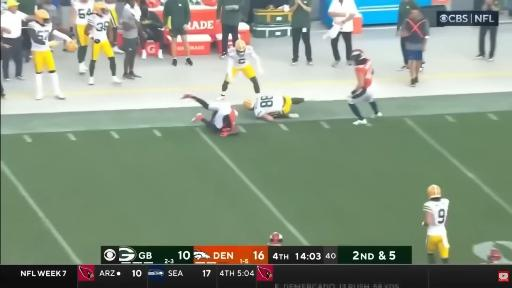Helmet: (34, 9, 50, 26), (93, 1, 110, 16), (488, 248, 501, 263), (235, 39, 246, 55), (428, 185, 441, 198), (269, 232, 282, 245), (351, 50, 364, 61), (243, 100, 254, 109)
Jersey: (423, 199, 449, 235), (28, 22, 52, 51), (254, 96, 285, 117), (227, 46, 254, 69), (88, 14, 111, 41), (72, 0, 94, 25), (355, 60, 373, 88), (223, 111, 235, 130)
Player: (28, 10, 76, 99), (86, 2, 121, 85), (217, 39, 263, 100), (348, 50, 381, 124), (182, 94, 238, 136), (423, 185, 449, 263), (70, 0, 94, 74), (244, 95, 304, 121), (104, 0, 123, 53), (487, 248, 502, 264), (268, 232, 282, 245)
